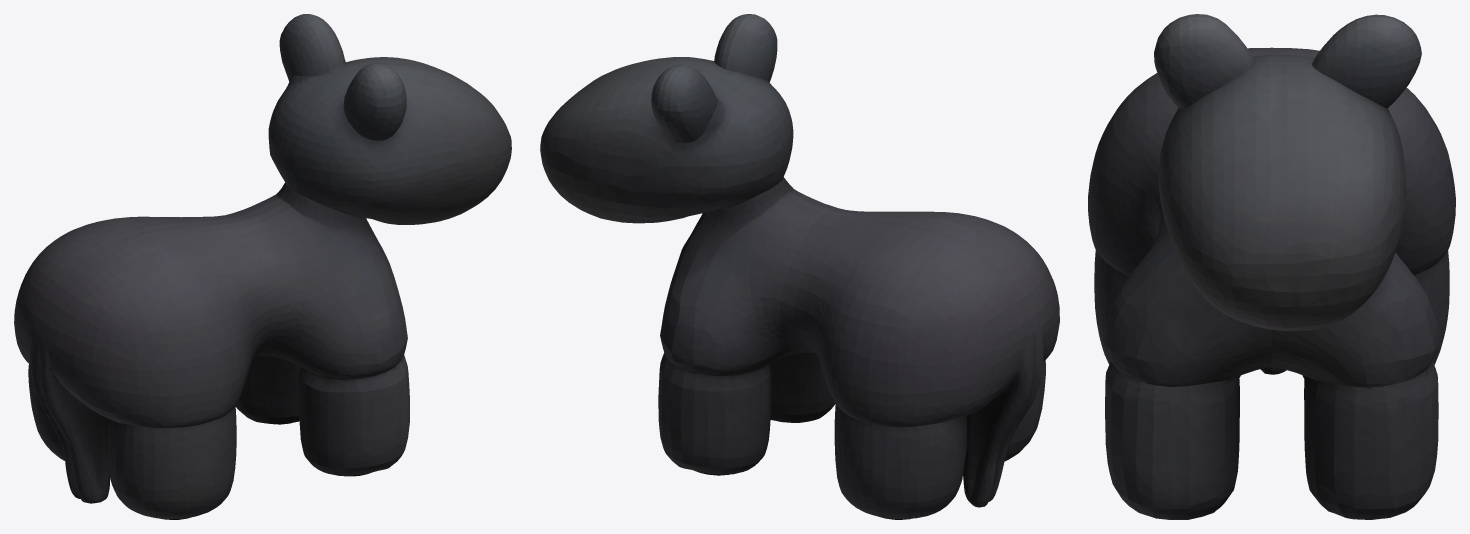
The model's file is ast_88ceb53354e6.glb.
3 renders of one model, left to right at view 1: azimuth 30°, elevation 25°; view 2: azimuth 150°, elevation 25°; view 3: azimuth 270°, elevation 25°, orthographic. The views are drawn at different scales.
Parts seen in each view (by area): view 1: geometry_0; view 2: geometry_0; view 3: geometry_0.
Boxes of the visible parts, x1,y1,x2,y2 form: geometry_0: (14, 14, 511, 519); geometry_0: (540, 14, 1059, 519); geometry_0: (1088, 14, 1455, 519).
Size of the model in its own units: 0.9999 by 0.8084 by 0.5203.
Materials: 1 (1 with a texture image).
